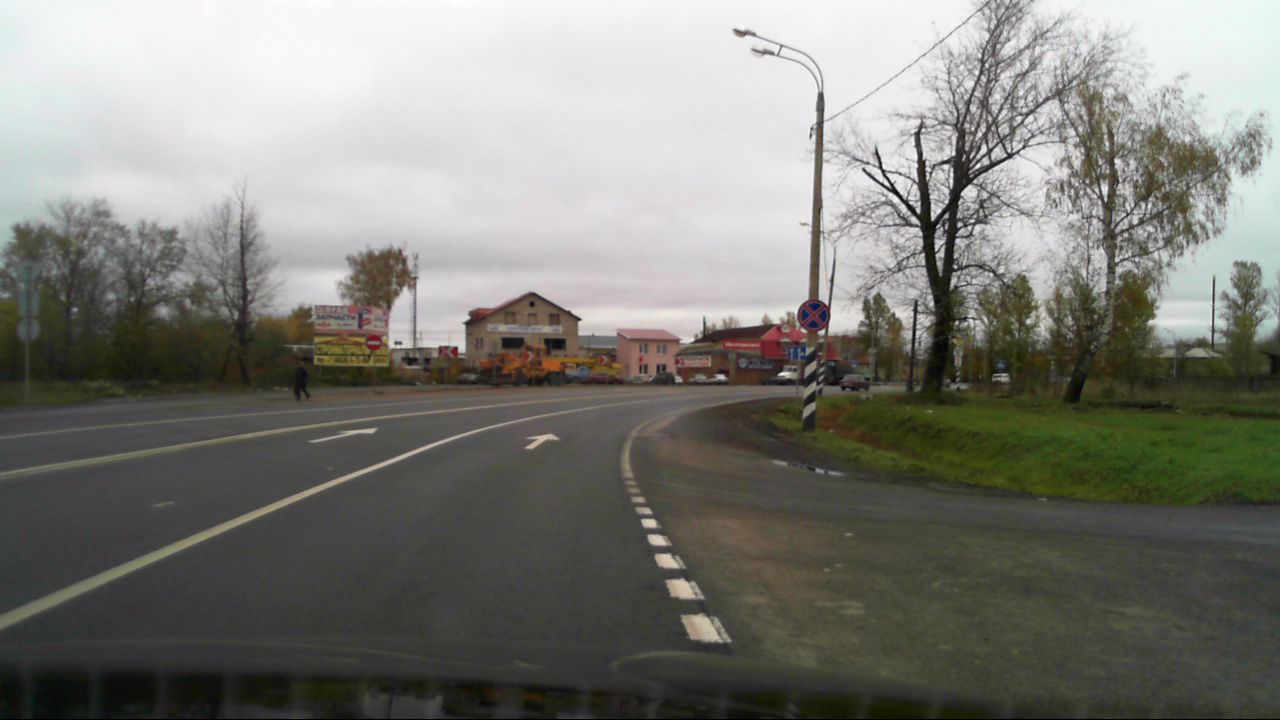No Parking: (796, 299, 831, 332)
